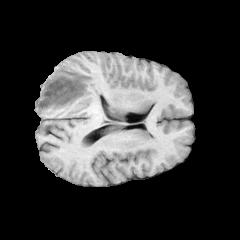glioma: (37, 67, 97, 112)
